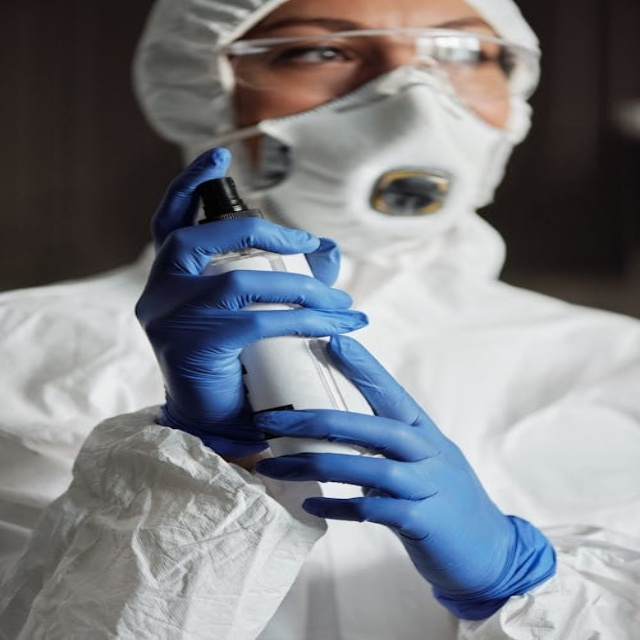Gafas: (214, 28, 538, 99)
Guantes: (247, 336, 555, 622), (134, 146, 360, 457)
Mascara: (233, 60, 522, 242)
